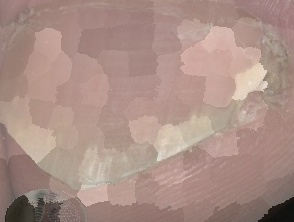Nail_psoriasis: (0, 0, 294, 209)
